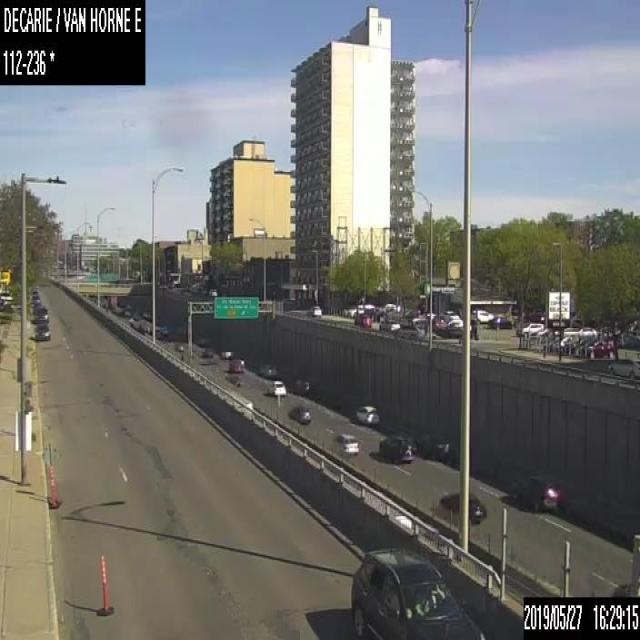construction: (41, 443, 59, 508), (96, 553, 114, 615)
vehicle: (348, 545, 486, 639), (509, 474, 561, 512), (442, 490, 486, 522), (412, 432, 450, 460), (377, 433, 414, 460), (606, 356, 639, 377), (331, 433, 359, 455), (355, 402, 380, 424), (585, 339, 613, 356), (288, 402, 311, 422), (516, 321, 544, 336), (266, 378, 286, 394), (471, 309, 493, 323), (35, 320, 51, 339), (486, 316, 511, 328), (258, 362, 276, 378), (291, 378, 310, 393), (353, 312, 371, 327), (229, 357, 245, 372), (379, 319, 399, 331), (34, 306, 48, 322), (530, 308, 544, 321), (304, 305, 320, 316), (198, 345, 212, 356), (220, 349, 232, 358), (174, 342, 184, 351), (207, 288, 217, 295)
